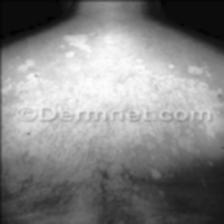Toxin: (8, 58, 76, 105), (60, 31, 98, 56)
